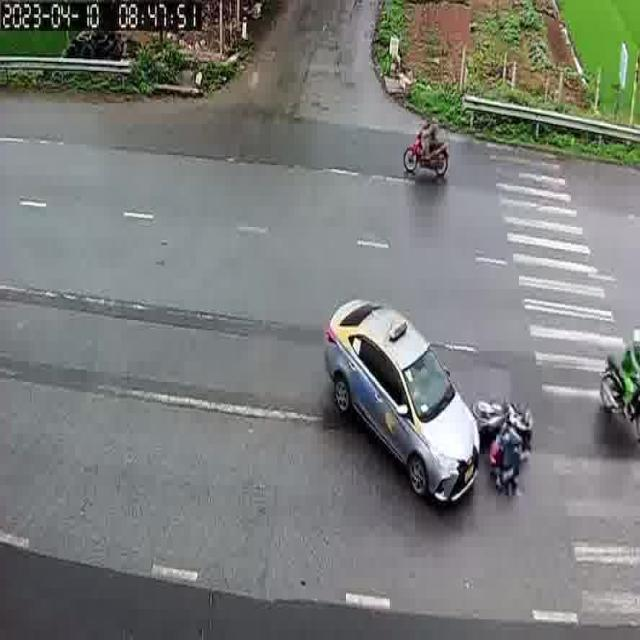multiple_accident: (317, 286, 539, 526)
normal: (394, 100, 461, 199)
